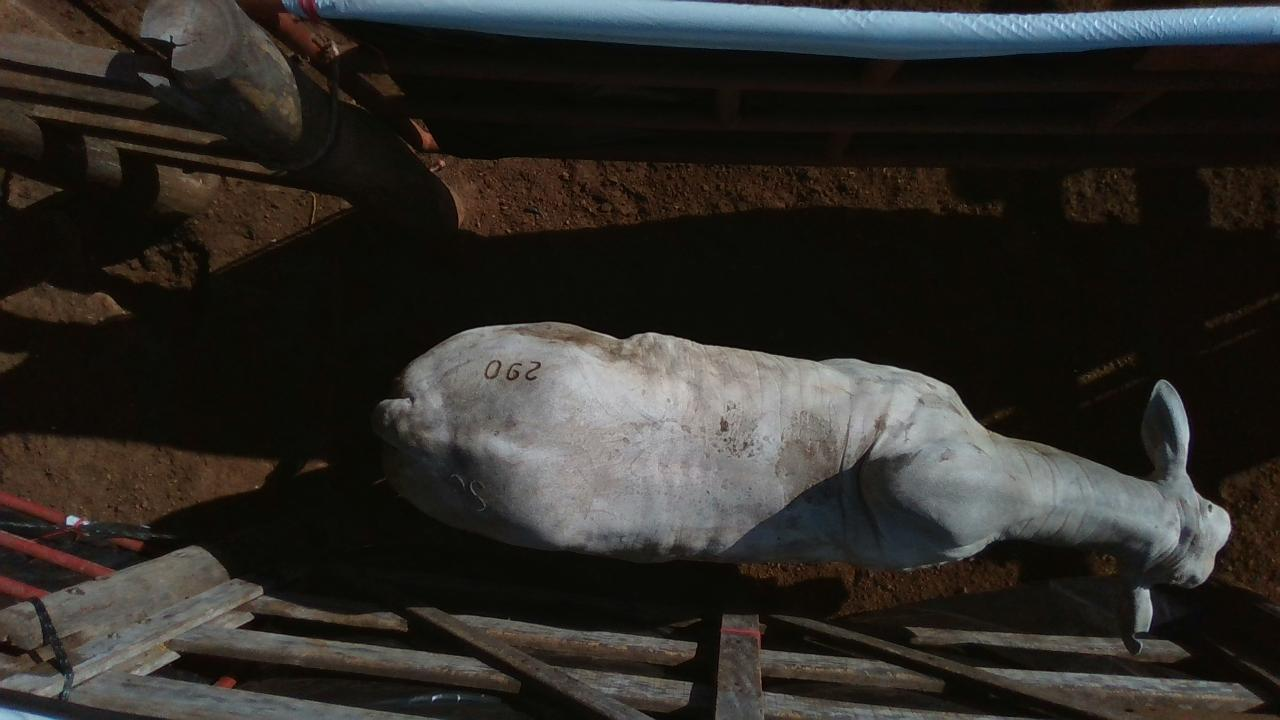cattle: (369, 318, 1233, 655)
